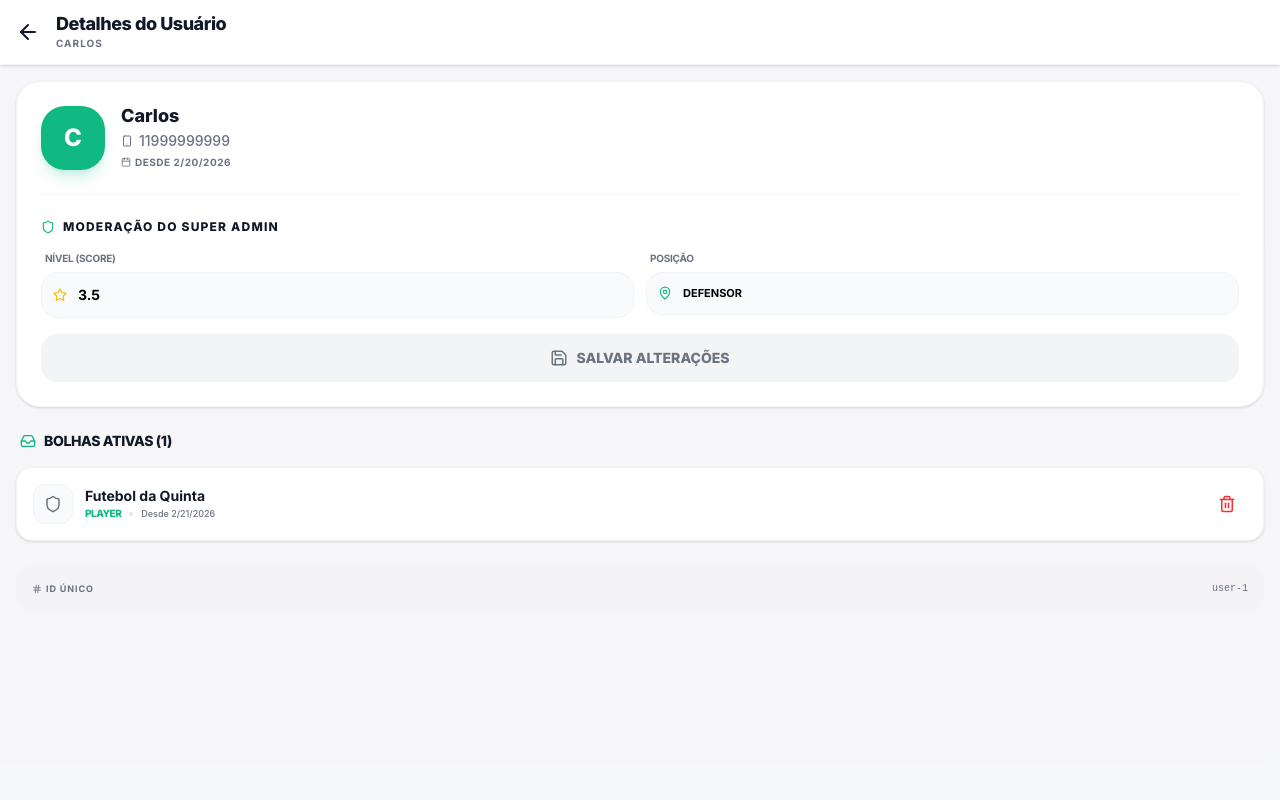
Test: UserDetailsView Component › opens confirm modal when clicking to remove member from group
Expected: the text "Futebol da Quinta" is shown, [85,487,215,504]
Click the button titled "Remover do Grupo": (1227, 504) [1207,484,1247,524]
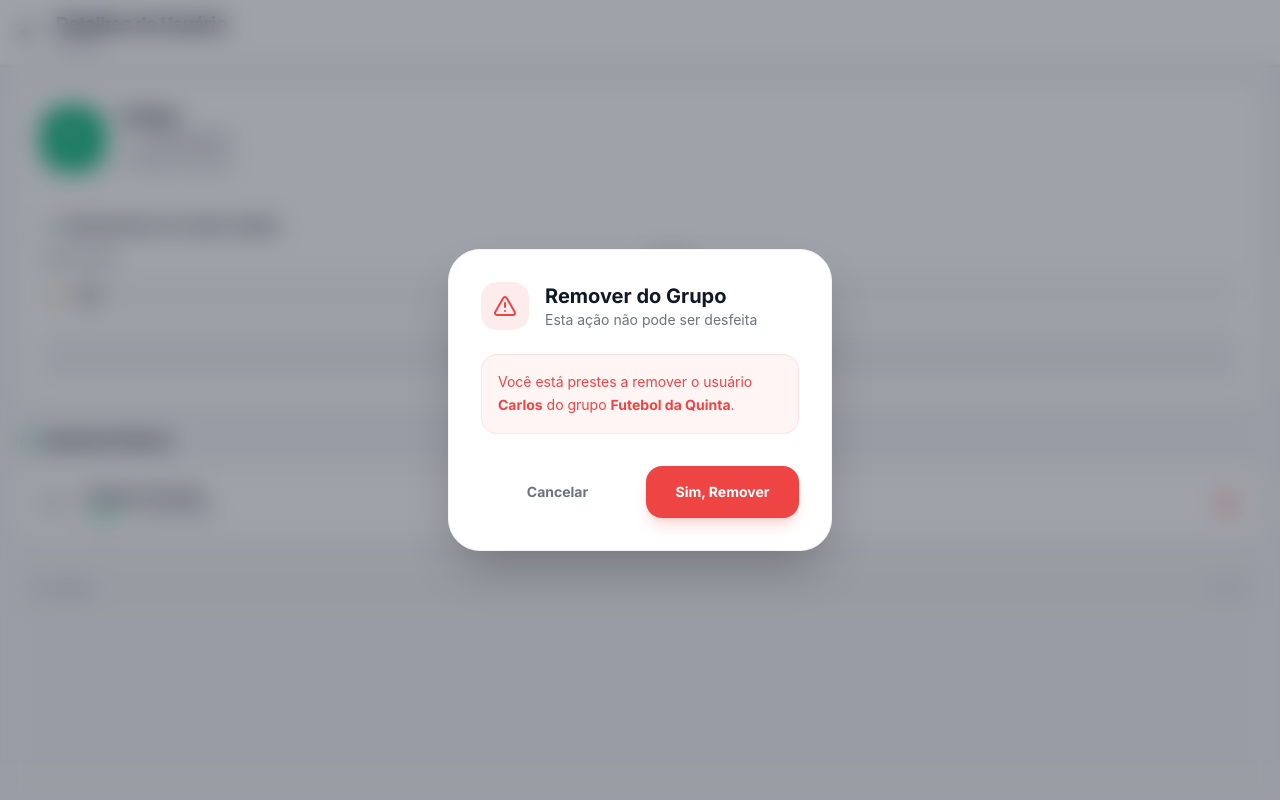
Expected: the text "Esta ação não pode ser desfeita" is shown, [545,310,757,330]
Expected: the button "Sim, Remover" is shown, [646,466,799,518]
